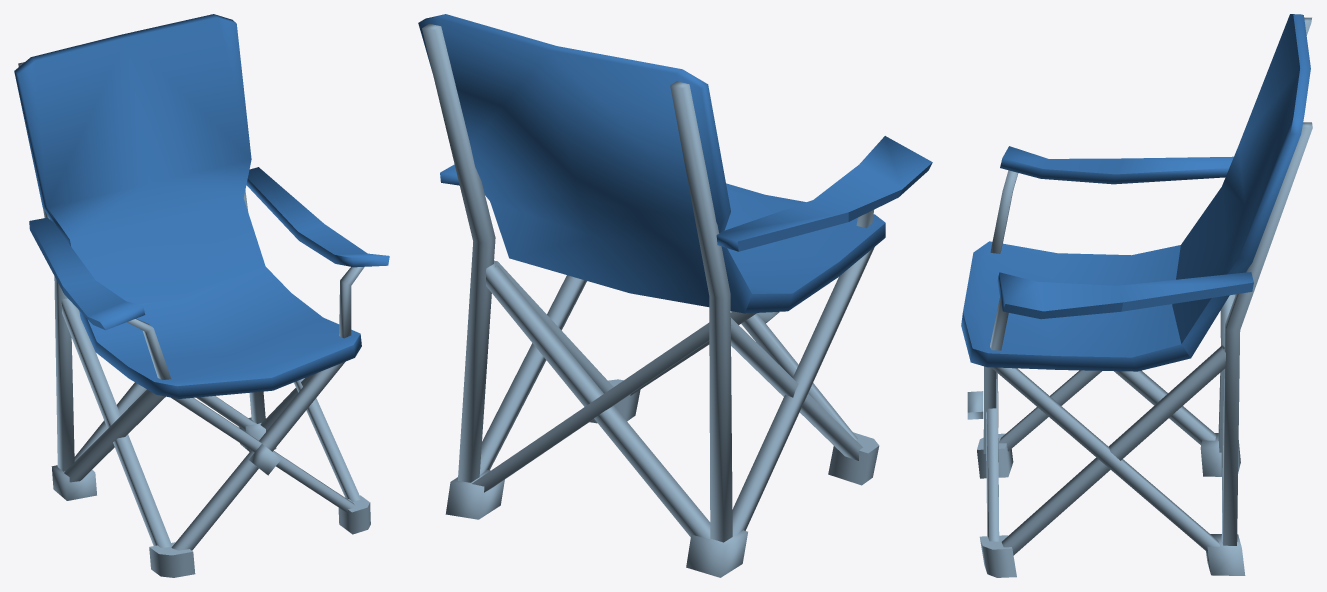
Rendered from Chair .fbx.
3 views of the same model, side by side, from view 1: azimuth 30°, elevation 25°; view 2: azimuth 150°, elevation 25°; view 3: azimuth 270°, elevation 25° (orthographic). The views are drawn at different scales.
Parts seen in each view (by area): view 1: Chair; view 2: Chair; view 3: Chair.
Part boxes in pixels (x1,y1,x2,y2): Chair: [14, 14, 389, 577]; Chair: [418, 14, 932, 577]; Chair: [961, 14, 1312, 577].
Bounding box in the file's own units: 85.69 × 118 × 82.4.
